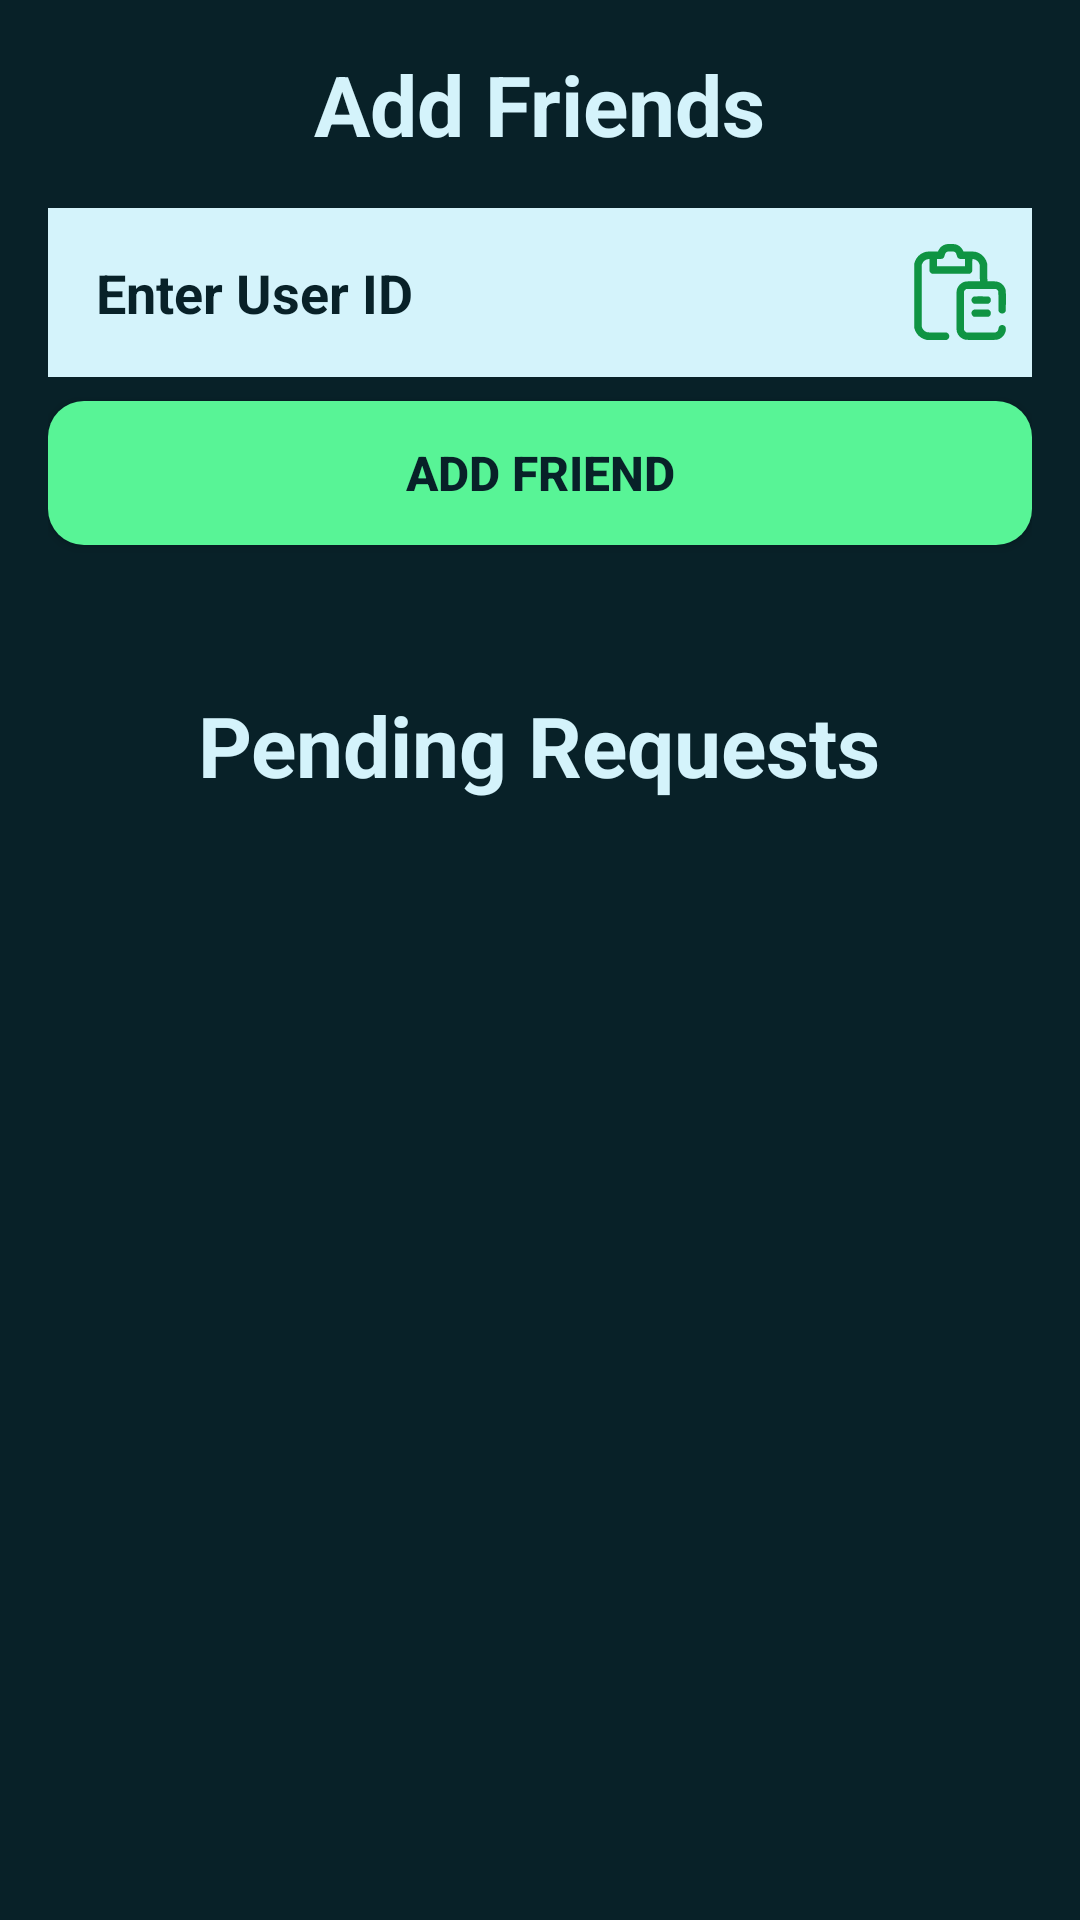

Icons on this 1080×1920 Android screen, each with the point to tap as point (x, y):
paste: point (960, 292)
